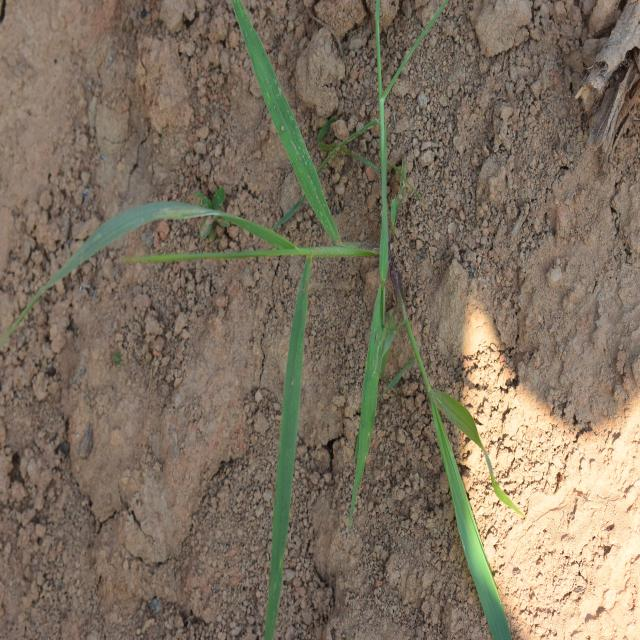green_foxtail: (156, 72, 513, 516)
